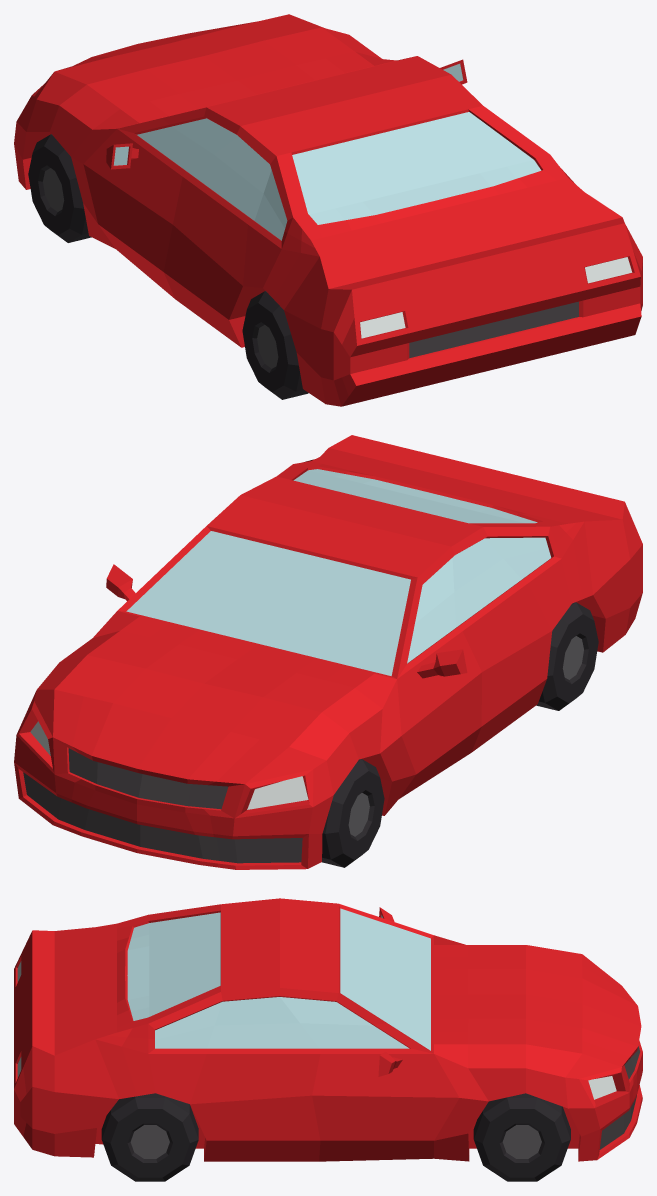
File: red-car.glb
The picture shows the model from 3 angles, top to bottom: view 1: azimuth 30°, elevation 25°; view 2: azimuth 150°, elevation 25°; view 3: azimuth 270°, elevation 25°; orthographic projection. The views are drawn at different scales.
Parts seen in each view (by area): view 1: Body_Cube.001; view 2: Body_Cube.001; view 3: Body_Cube.001.
Boxes of the visible parts, bbox=[...] form: Body_Cube.001: bbox=[14, 14, 642, 406]; Body_Cube.001: bbox=[14, 435, 642, 869]; Body_Cube.001: bbox=[14, 898, 642, 1181].
Bounding box in the file's own units: 1.07 × 0.5792 × 1.87.
Materials: 2 (2 with a texture image).
